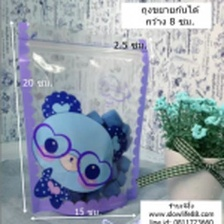snack: (10, 14, 155, 223)
